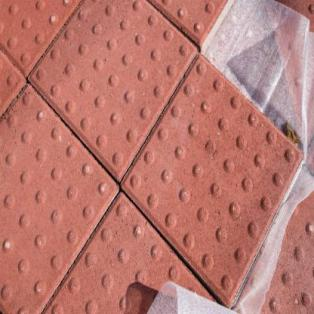Podoctatil: (0, 0, 301, 312)
